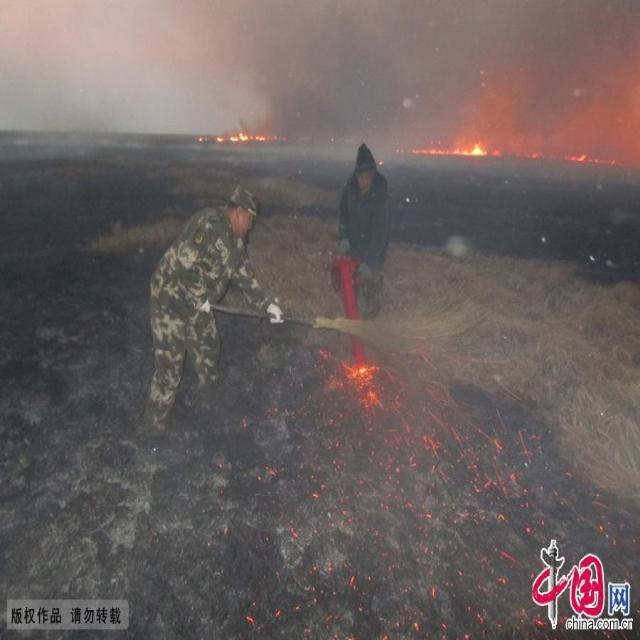Fire: (410, 128, 500, 154), (333, 341, 376, 386), (211, 127, 286, 150), (569, 144, 590, 162)
Smoke: (0, 0, 640, 125)
